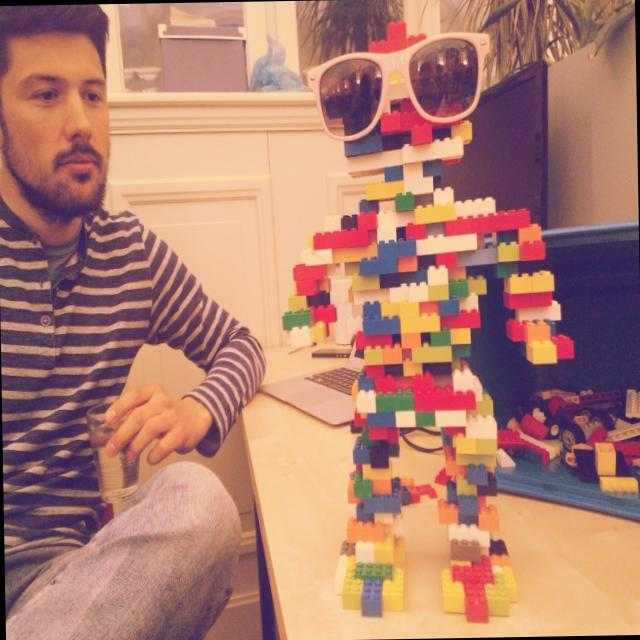Toy: (269, 9, 582, 624), (497, 378, 640, 494)
